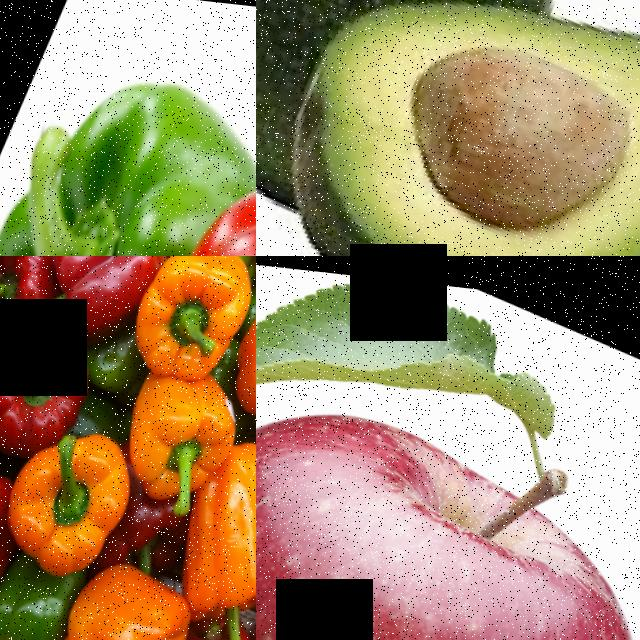apple: (256, 331, 640, 640)
avocado: (256, 0, 640, 256)
bell pepper: (0, 0, 245, 256), (8, 414, 144, 573), (169, 421, 256, 628), (113, 256, 256, 377), (89, 167, 256, 256), (43, 554, 205, 640), (0, 312, 106, 436), (26, 256, 177, 336), (150, 351, 247, 475), (227, 266, 256, 413), (0, 256, 51, 329)
